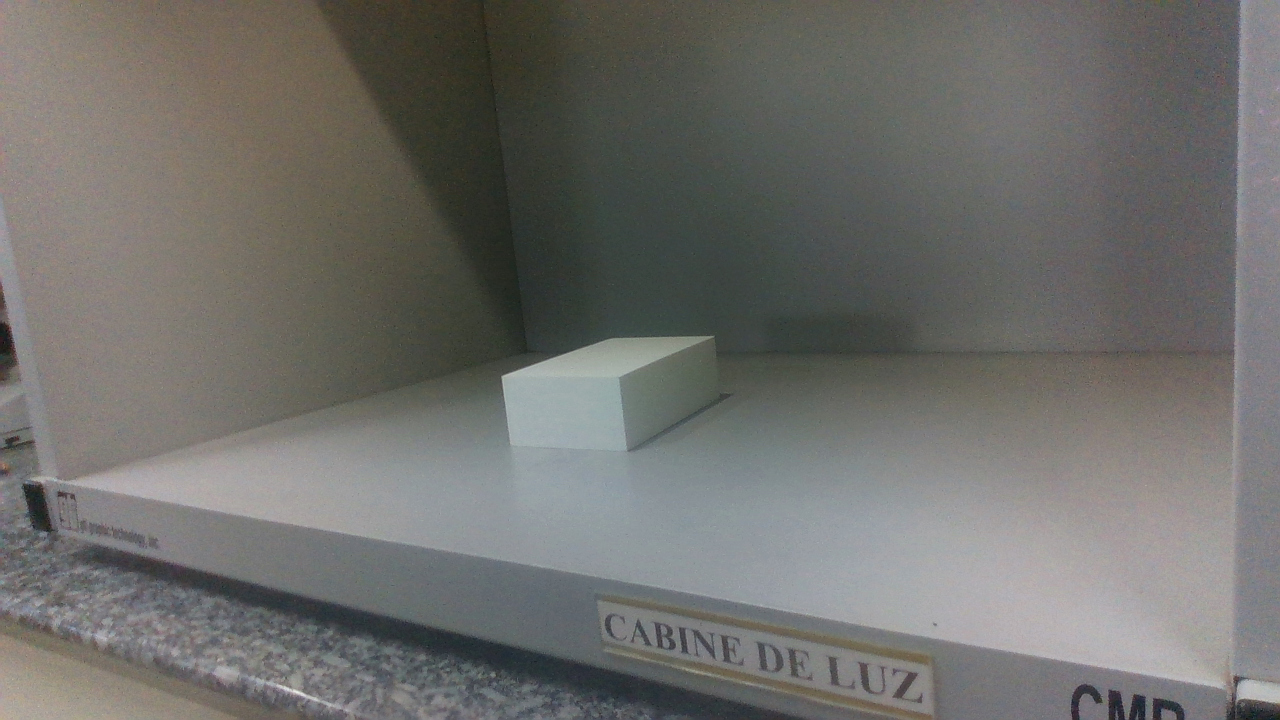Retangulo: (498, 335, 719, 452)
